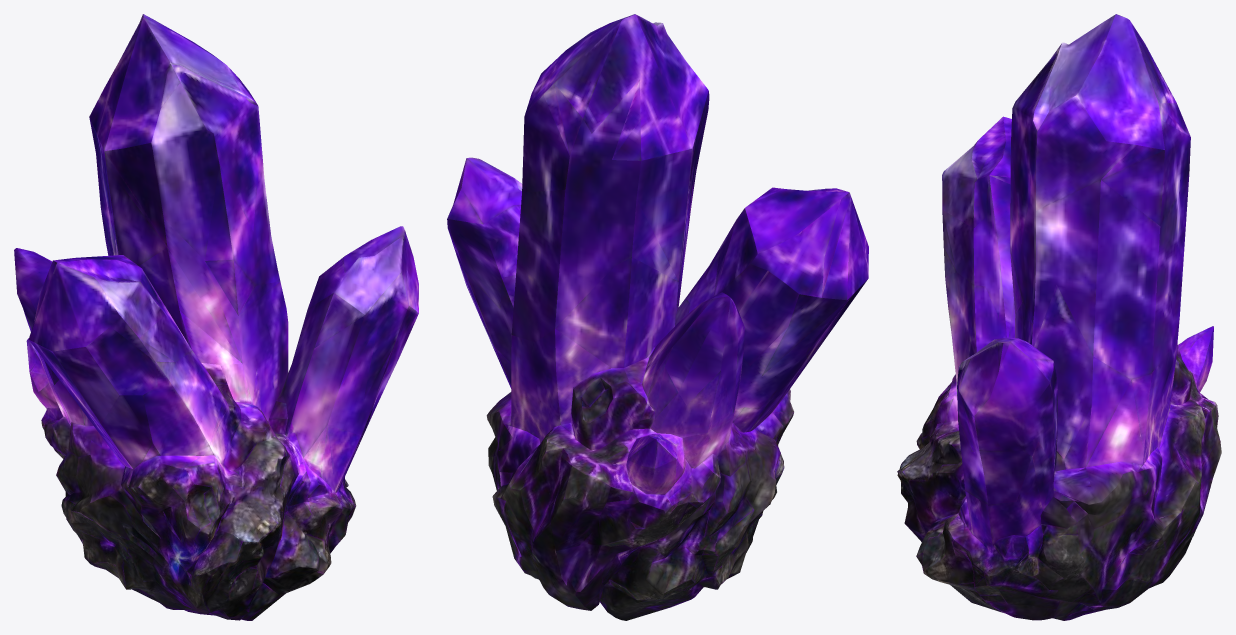
Rendered from crystal.glb.
The picture shows the model from 3 angles, left to right: view 1: azimuth 30°, elevation 25°; view 2: azimuth 150°, elevation 25°; view 3: azimuth 270°, elevation 25°; orthographic projection. The views are drawn at different scales.
Parts seen in each view (by area): view 1: Mesh_0; view 2: Mesh_0; view 3: Mesh_0.
Boxes of the visible parts, left/top/right/bottom form: Mesh_0: left=14, top=14, right=418, bottom=620; Mesh_0: left=447, top=14, right=868, bottom=620; Mesh_0: left=897, top=14, right=1221, bottom=620.
Size of the model in its own units: 1.29 by 1.9 by 0.9601.
1 material, 1 textured.
